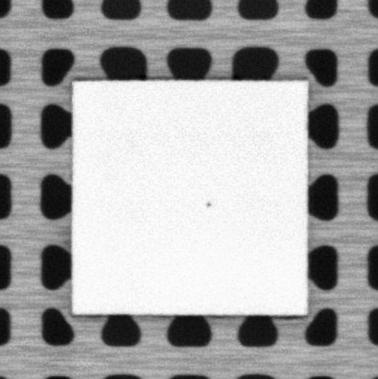DIE_INK: (204, 198, 213, 208)
